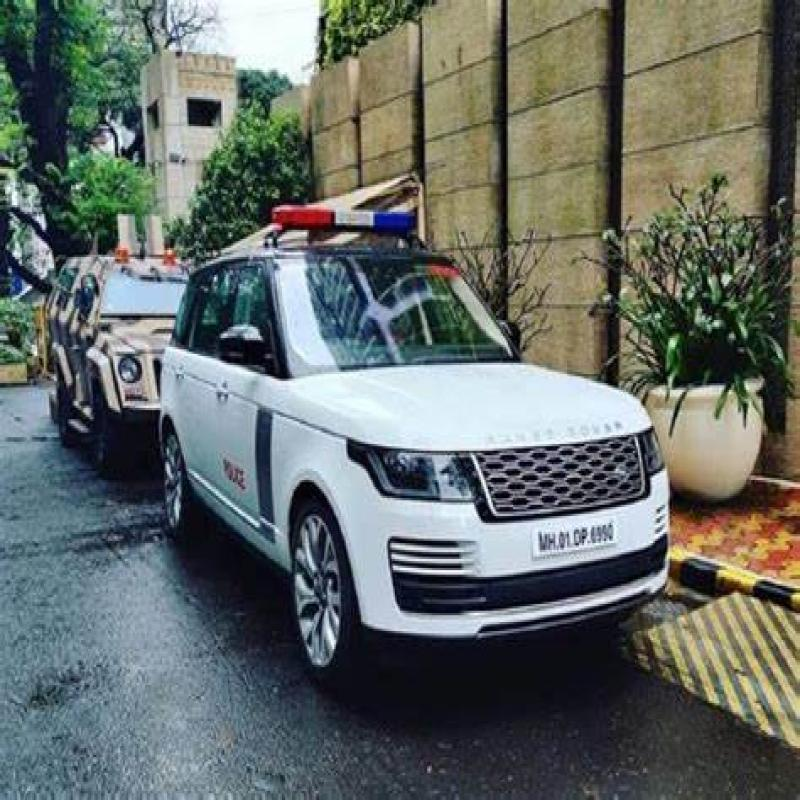AmbulanceSiren: (258, 191, 426, 248)
car: (164, 251, 676, 672), (54, 247, 184, 423)
